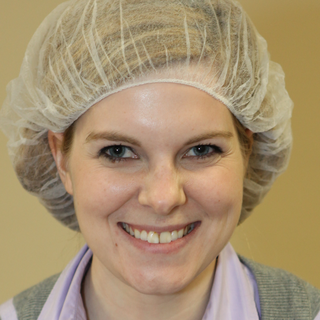eye: (92, 139, 142, 165), (177, 138, 226, 164)
